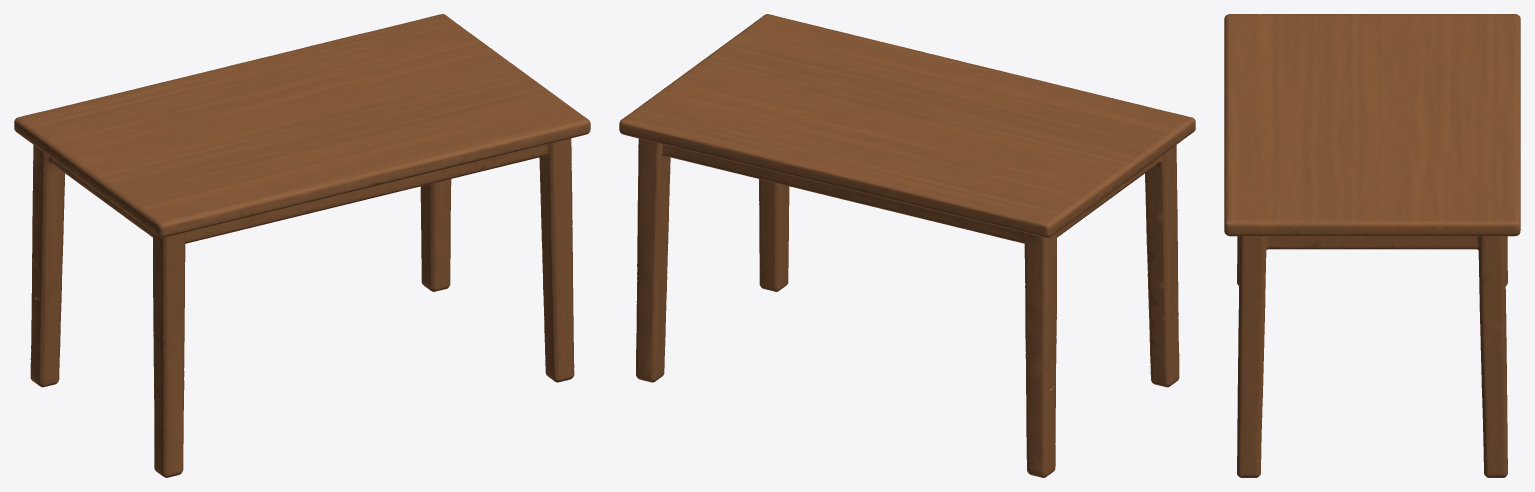
The model's file is diningtable.glb.
3 views of the same model, side by side, from view 1: azimuth 30°, elevation 25°; view 2: azimuth 150°, elevation 25°; view 3: azimuth 270°, elevation 25° (orthographic).
Parts seen in each view (by area): view 1: geometry_0; view 2: geometry_0; view 3: geometry_0.
Part boxes in pixels (x1=…): geometry_0: x1=14, y1=14, x2=590, y2=477; geometry_0: x1=619, y1=14, x2=1195, y2=477; geometry_0: x1=1224, y1=14, x2=1520, y2=477.
Size of the model in its own units: 1 by 0.5826 by 0.5972.
Materials: 1 (1 with a texture image).
